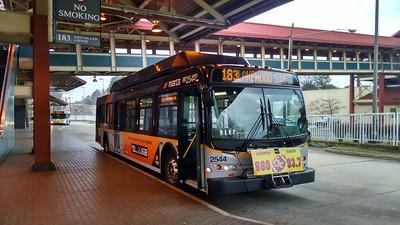bus: (90, 52, 326, 196)
